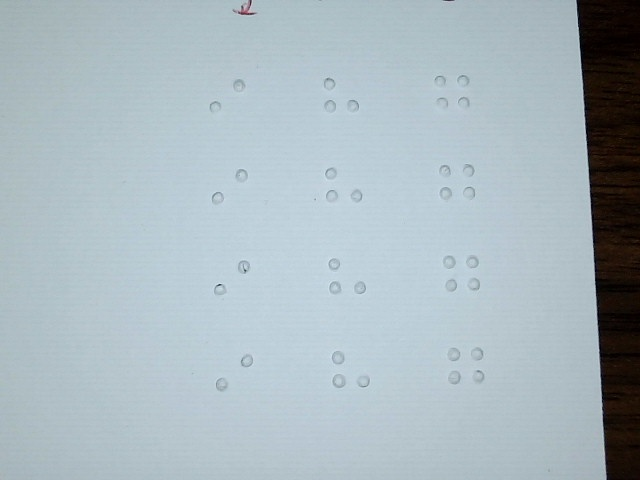G: (432, 63, 472, 134), (437, 152, 477, 223), (441, 241, 481, 312), (446, 336, 486, 407)
H: (321, 66, 361, 137), (324, 155, 364, 226), (327, 245, 367, 316), (330, 339, 370, 410)
I: (208, 68, 248, 139), (210, 156, 250, 227), (215, 341, 255, 412)
